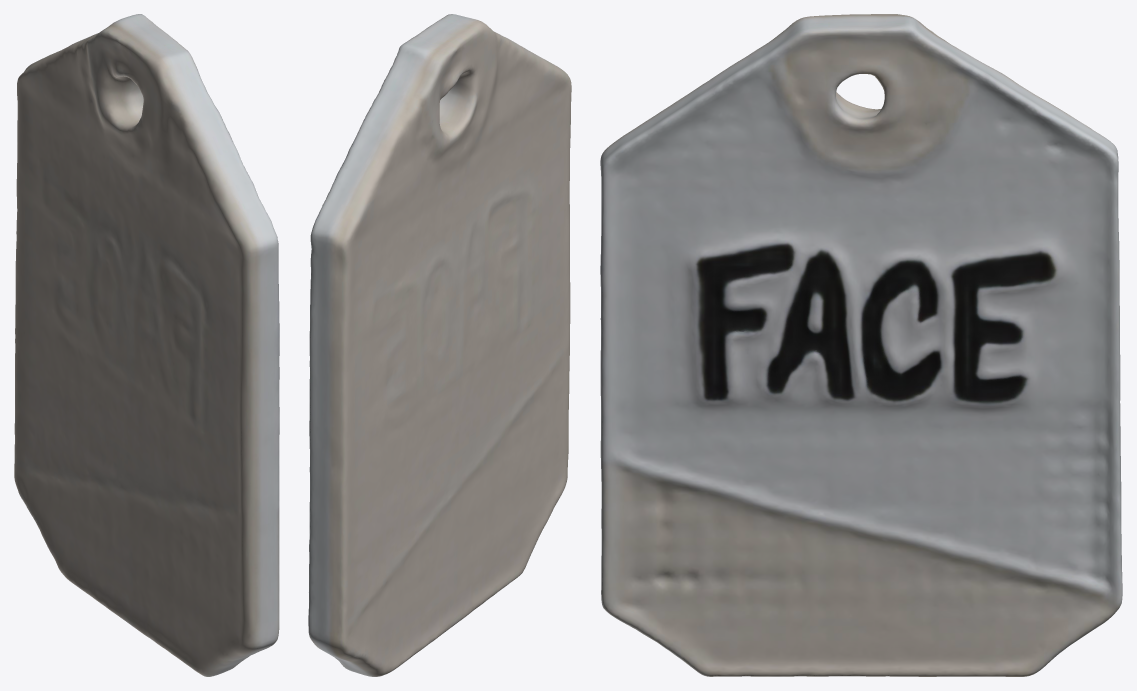
Rendered from 9099c9e3bbd7_tag_with_text__Face.fbx.
3 views of the same model, side by side, from view 1: azimuth 30°, elevation 25°; view 2: azimuth 150°, elevation 25°; view 3: azimuth 270°, elevation 25° (orthographic). The views are drawn at different scales.
Visible parts, largest first — view 1: high_poly; view 2: high_poly; view 3: high_poly.
Part boxes in pixels (x1,y1,x2,y2): high_poly: (14,14,279,676); high_poly: (308,14,571,676); high_poly: (600,14,1122,676).
Bounding box in the file's own units: 7.9 × 100 × 72.28.
